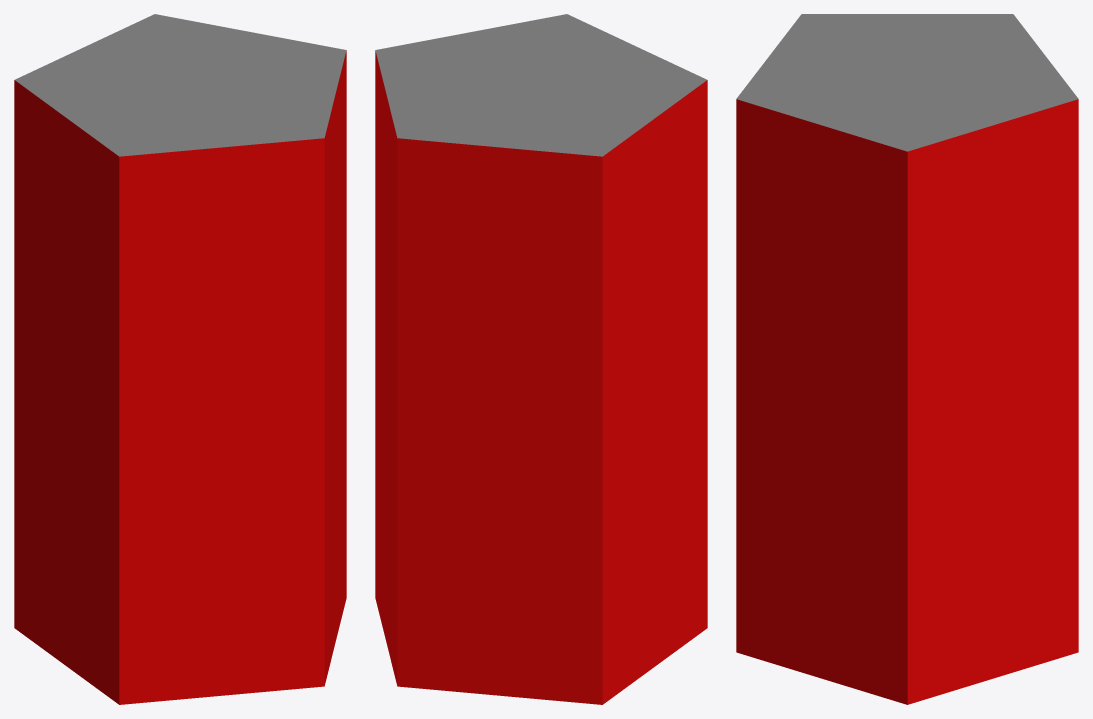
File: metal_can.fbx
3 renders of one model, left to right at view 1: azimuth 30°, elevation 25°; view 2: azimuth 150°, elevation 25°; view 3: azimuth 270°, elevation 25°, orthographic.
Parts seen in each view (by area): view 1: pCylinder11; view 2: pCylinder11; view 3: pCylinder11.
Boxes of the visible parts, x1,y1,x2,y2 form: pCylinder11: (14, 14, 346, 704); pCylinder11: (375, 14, 707, 704); pCylinder11: (736, 14, 1078, 704).
Bounding box in the file's own units: 0.9115 × 1.71 × 0.9584.
1 material, 1 textured.
